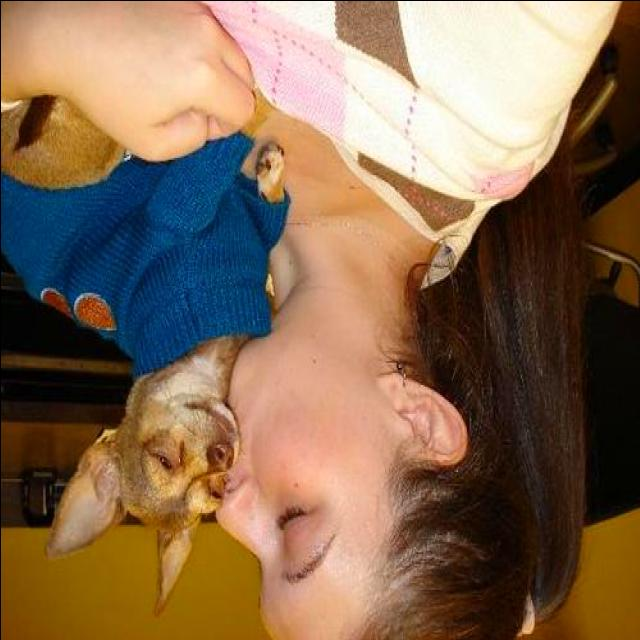chihuahua: (0, 85, 288, 616)
